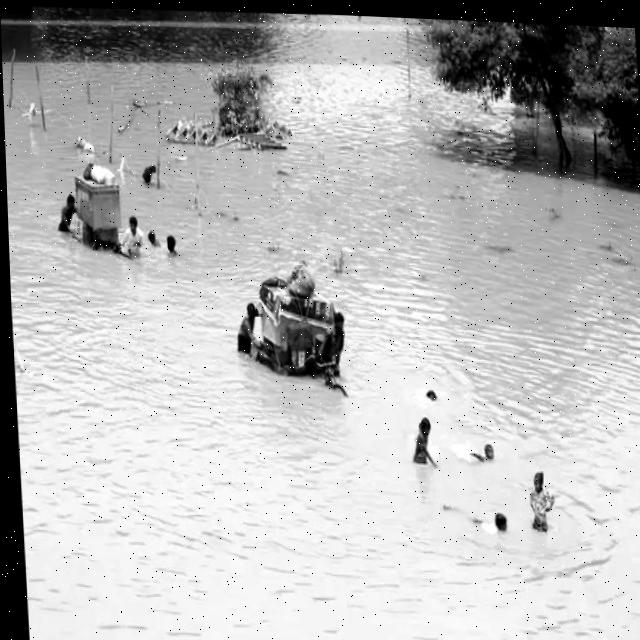civilian: (519, 460, 562, 536), (403, 405, 447, 474), (47, 188, 79, 239), (117, 210, 143, 267), (478, 503, 513, 538), (475, 435, 498, 469), (144, 225, 163, 251), (163, 232, 182, 257), (423, 384, 443, 405)
